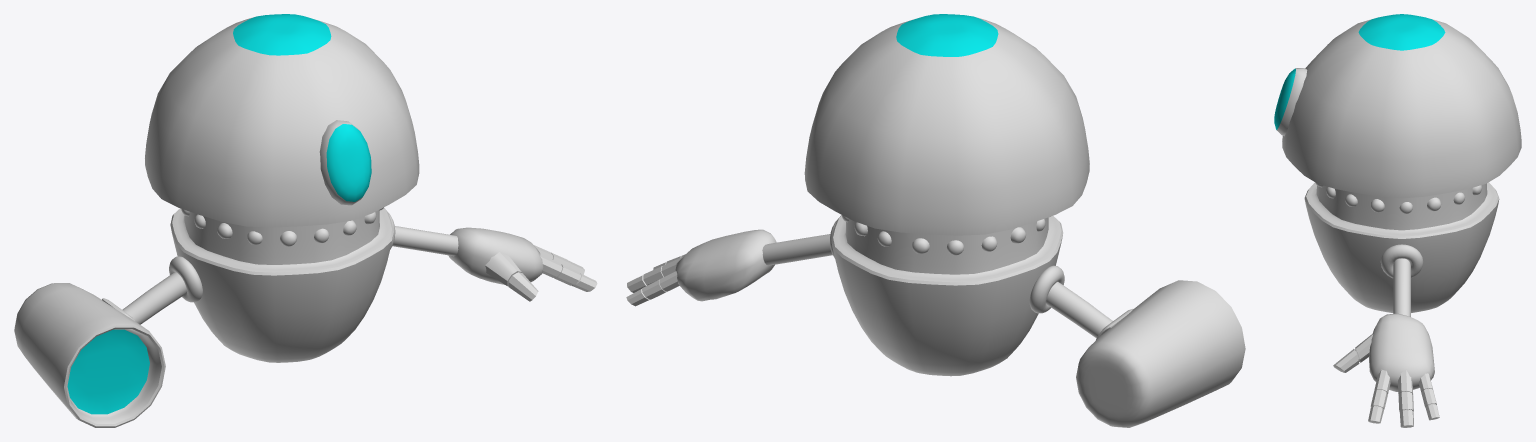
File: Fiumbot_CompletoEsteSi2.fbx
The picture shows the model from 3 angles, left to right: view 1: azimuth 30°, elevation 25°; view 2: azimuth 150°, elevation 25°; view 3: azimuth 270°, elevation 25°; orthographic projection. The views are drawn at different scales.
Parts seen in each view (by area): view 1: Mesh_Fiumbot; view 2: Mesh_Fiumbot; view 3: Mesh_Fiumbot.
Boxes of the visible parts, x1,y1,x2,y2 form: Mesh_Fiumbot: [14, 14, 597, 427]; Mesh_Fiumbot: [626, 14, 1245, 427]; Mesh_Fiumbot: [1274, 14, 1521, 427].
Bounding box in the file's own units: 502 × 281 × 225.
